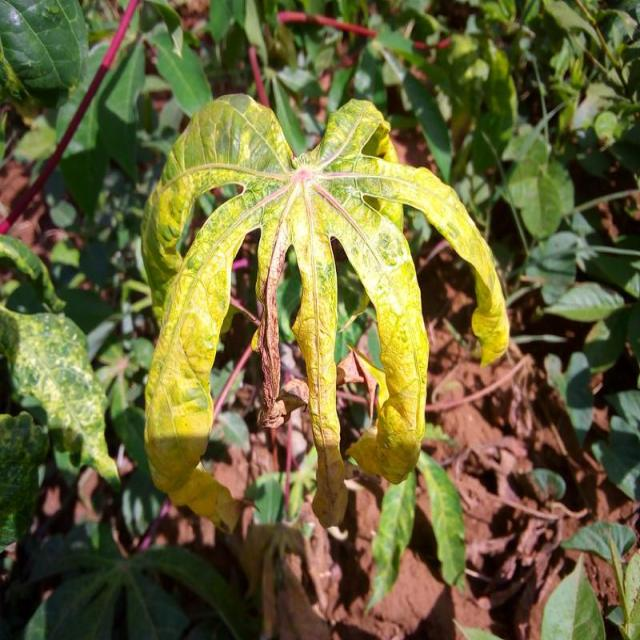cassava leaf: (139, 90, 510, 532)
